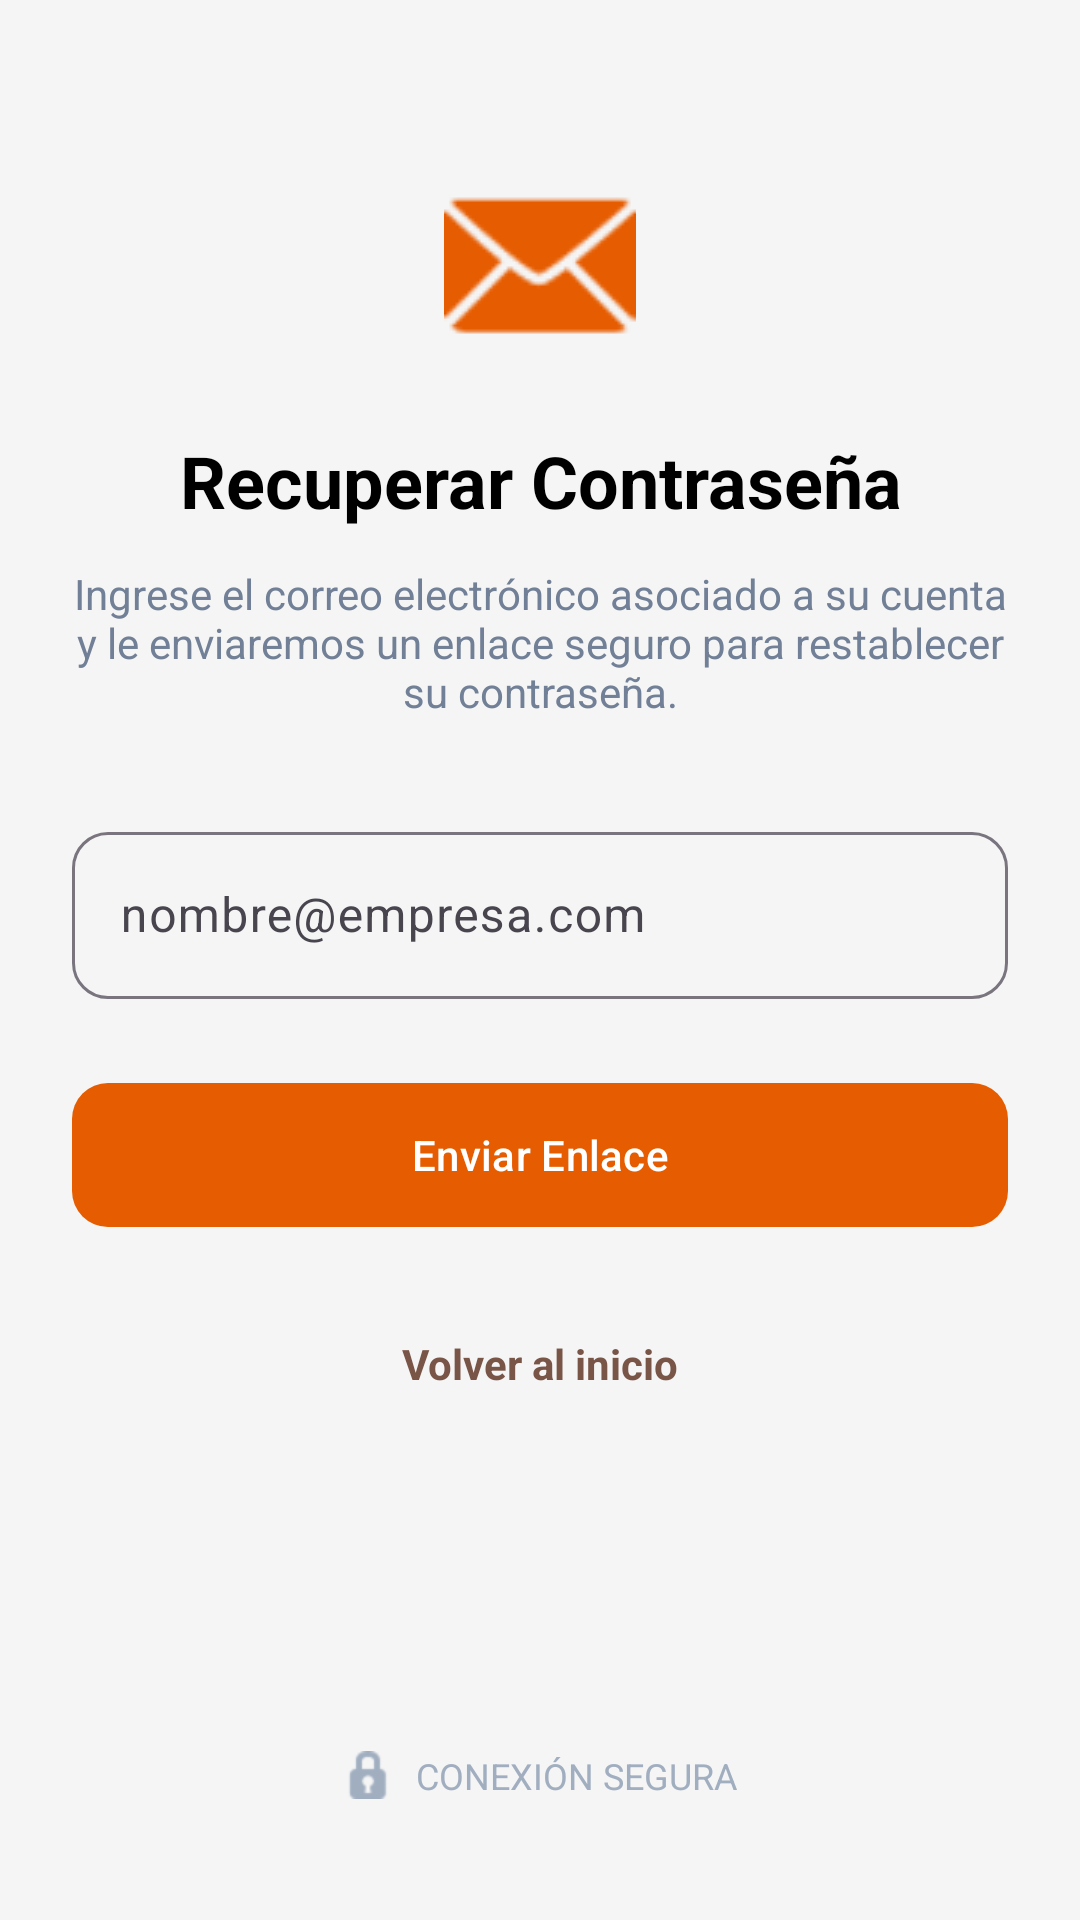

Icons on this 1080×1920 Android screen, each with its box as (x1, y1, x2, y2):
email: (444, 197, 636, 334)
